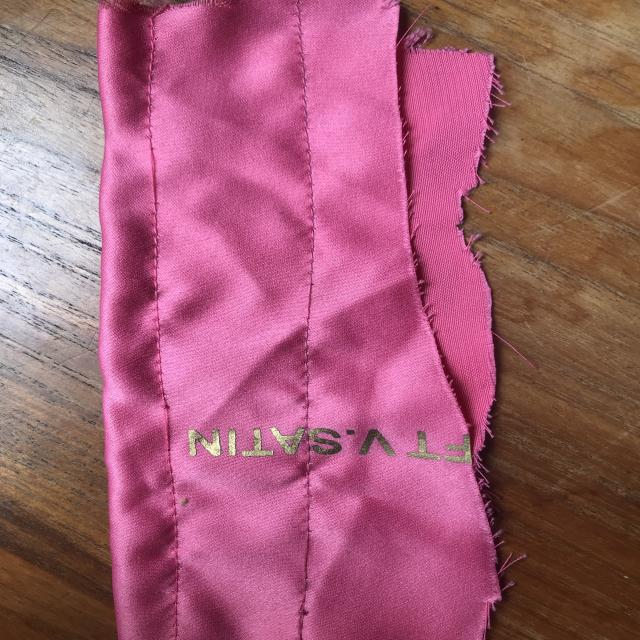skip: (132, 132, 178, 221), (282, 264, 341, 324), (143, 399, 183, 465)
